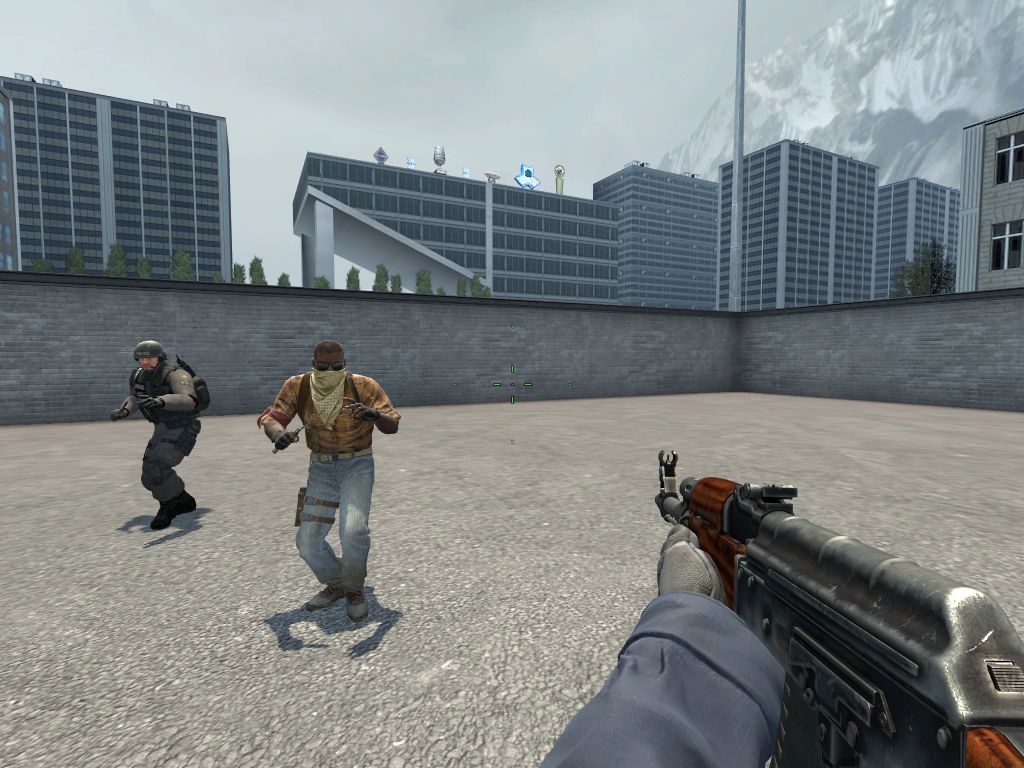ct head: (130, 336, 169, 378)
tr head: (308, 339, 346, 397)
